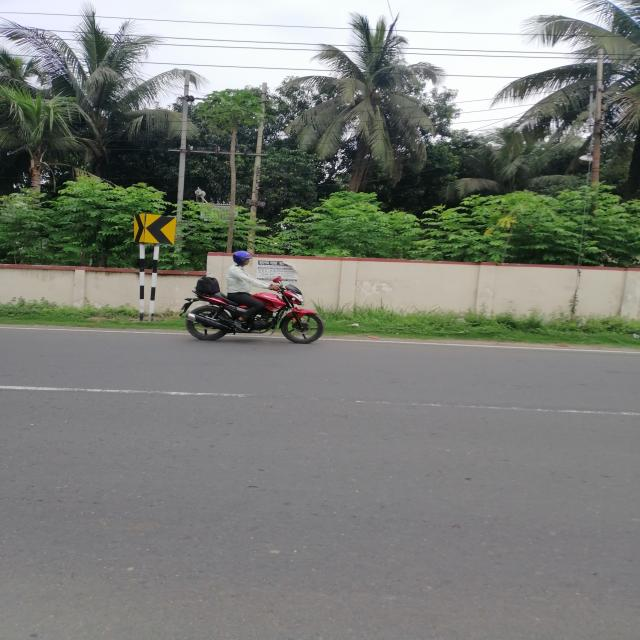Motorbike: (179, 279, 327, 352)
